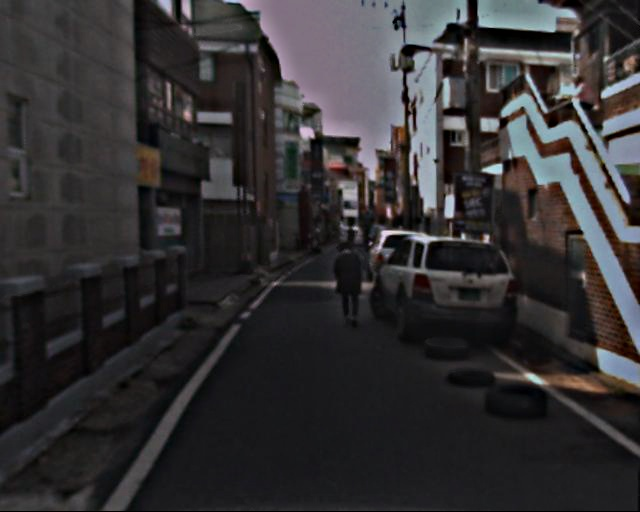person: (330, 241, 366, 328)
